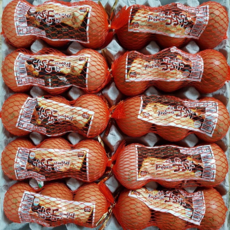egg: (1, 1, 226, 230)
